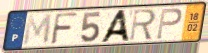5: (80, 11, 104, 44)
A: (98, 8, 132, 44)
F: (49, 12, 80, 46)
M: (22, 13, 54, 47)
P: (155, 7, 183, 41)
R: (128, 8, 158, 43)
